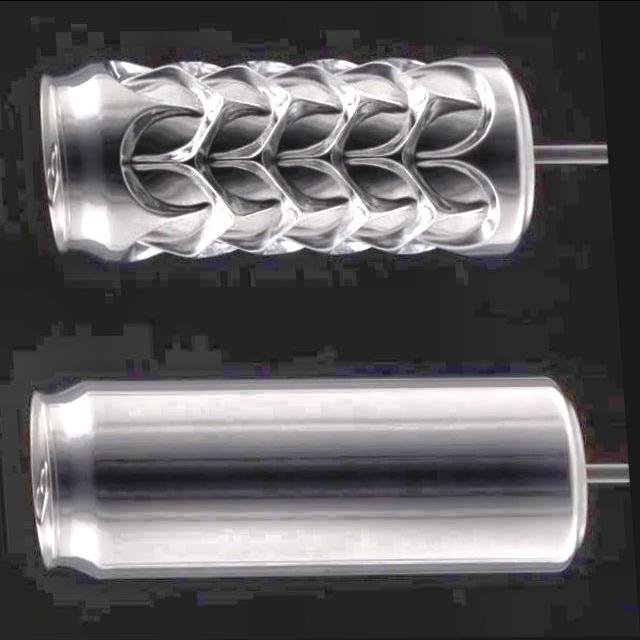litter: (17, 366, 604, 594), (31, 49, 558, 268)
